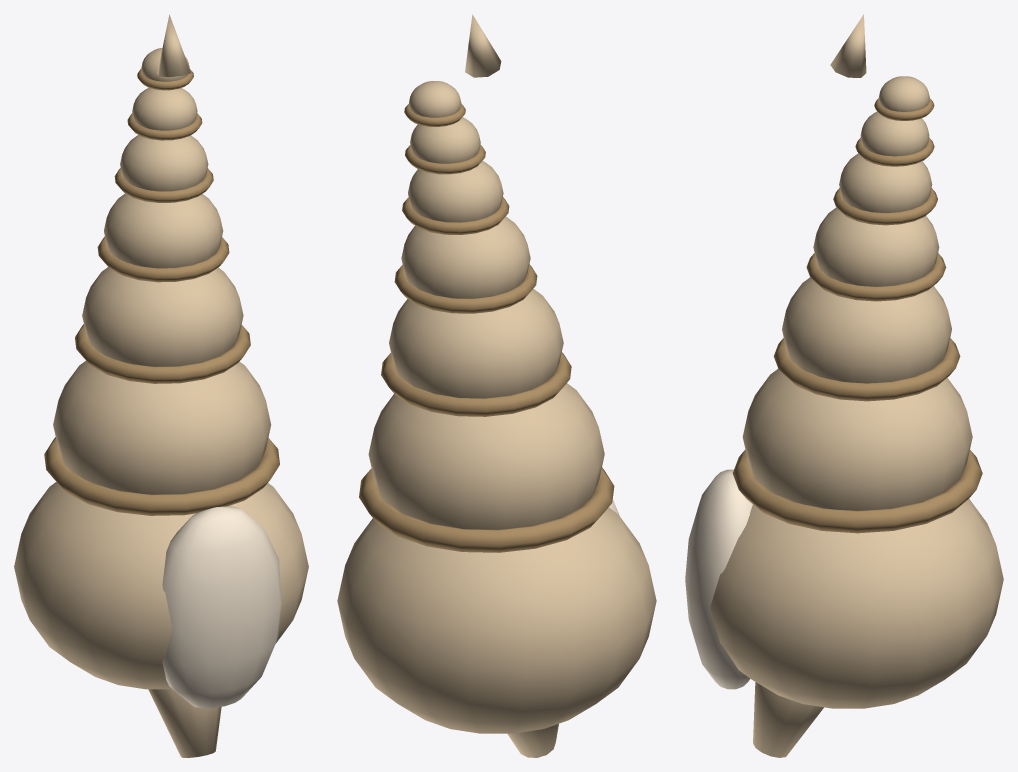
Rendered from shell-whelk.glb.
3 renders of one model, left to right at view 1: azimuth 30°, elevation 25°; view 2: azimuth 150°, elevation 25°; view 3: azimuth 270°, elevation 25°, orthographic. The views are drawn at different scales.
Parts seen in each view (by area): view 1: shell; view 2: shell; view 3: shell.
Boxes of the visible parts, x1,y1,x2,y2 form: shell: (14, 14, 308, 757); shell: (337, 14, 656, 757); shell: (685, 14, 1003, 757).
Bounding box in the file's own units: 0.197 × 0.5308 × 0.205.
